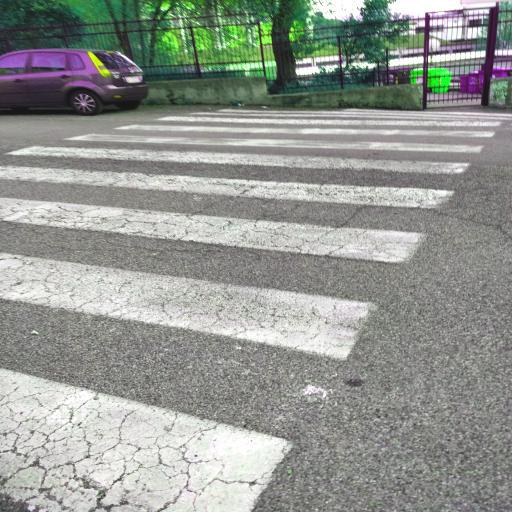crosswalk: (0, 127, 492, 179)
